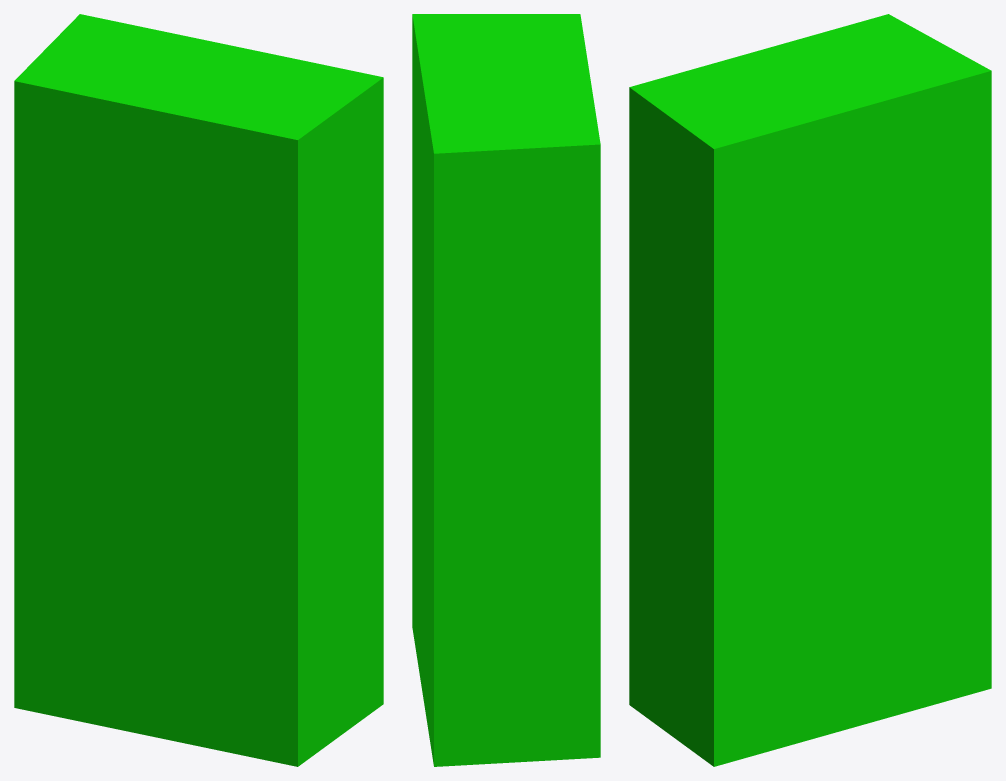
3 renders of one model, left to right at view 1: azimuth 30°, elevation 25°; view 2: azimuth 150°, elevation 25°; view 3: azimuth 270°, elevation 25°, orthographic. The views are drawn at different scales.
Visible parts, largest first — view 1: Circle.022; view 2: Circle.022; view 3: Circle.022.
Boxes of the visible parts, x1,y1,x2,y2 form: Circle.022: (14, 14, 383, 766); Circle.022: (412, 14, 600, 766); Circle.022: (629, 14, 991, 766).
Size of the model in its own units: 959 by 2044 by 1087.
